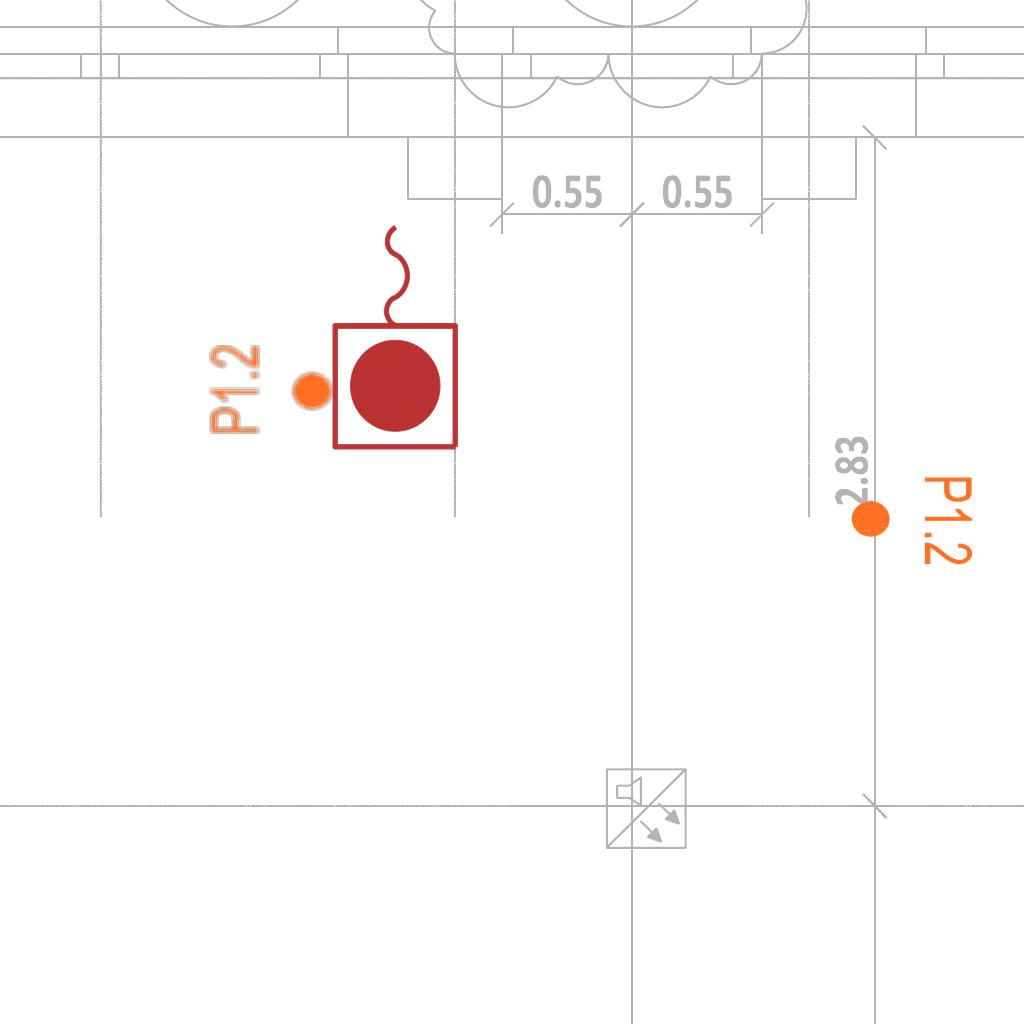Downlight_LED_Einbauleuchten_Flur: (848, 474, 976, 567), (207, 343, 335, 436)
Zugtaster: (325, 214, 469, 458)
